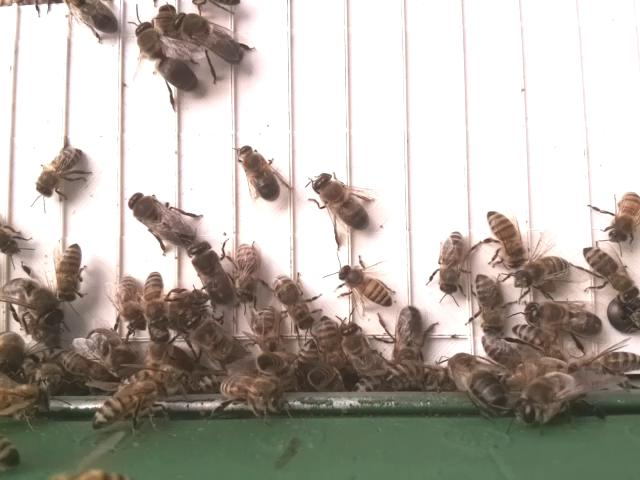Drone: (134, 19, 200, 96), (172, 11, 249, 66), (126, 188, 195, 248), (312, 169, 372, 235), (523, 299, 605, 342), (188, 240, 236, 307), (234, 142, 283, 204), (0, 279, 63, 327), (393, 303, 426, 369)
Worker: (582, 242, 636, 299), (96, 378, 165, 422), (335, 263, 394, 307), (34, 148, 84, 198), (485, 208, 524, 271), (274, 273, 315, 331), (438, 227, 469, 297), (517, 252, 570, 292), (112, 274, 145, 335), (53, 240, 84, 304), (231, 240, 261, 305), (473, 271, 504, 332), (607, 190, 640, 245), (144, 268, 167, 337), (316, 314, 342, 375)
